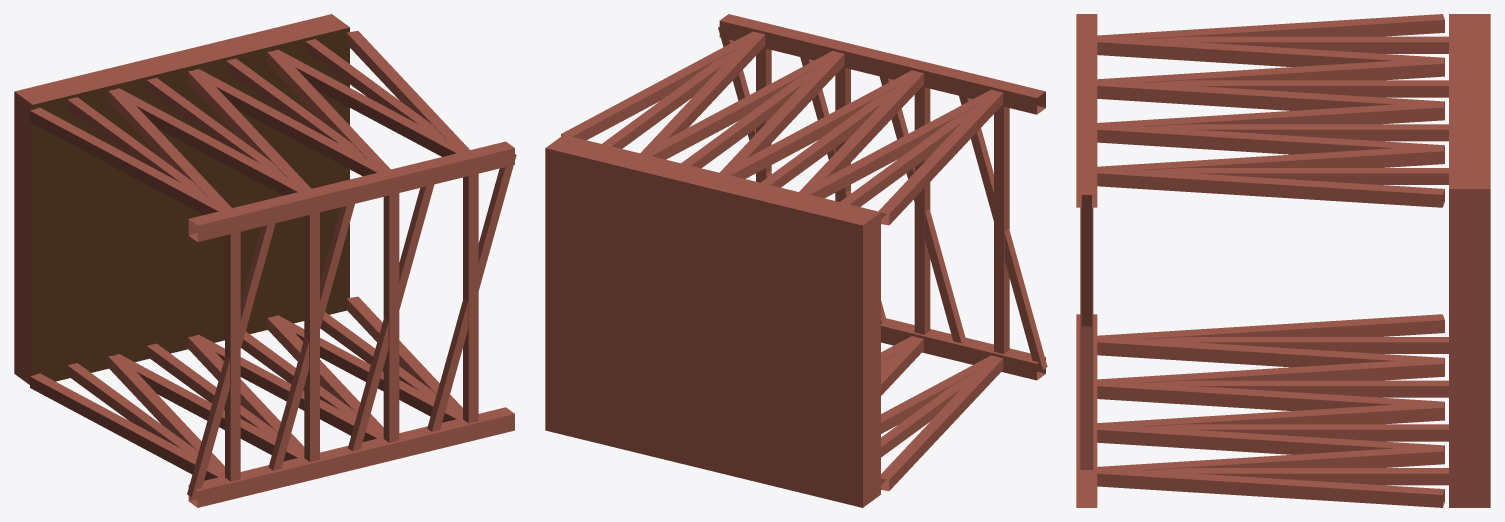
File: middle.glb
3 views of the same model, side by side, from view 1: azimuth 30°, elevation 25°; view 2: azimuth 150°, elevation 25°; view 3: azimuth 270°, elevation 25° (orthographic). The views are drawn at different scales.
Parts seen in each view (by area): view 1: bridge_06_middle; view 2: bridge_06_middle; view 3: bridge_06_middle.
Part boxes in pixels (box(x1,y1,x2,y2)): bridge_06_middle: box(14, 14, 516, 507); bridge_06_middle: box(545, 14, 1047, 507); bridge_06_middle: box(1076, 14, 1490, 507).
Bounding box in the file's own units: 16.54 × 13.6 × 16.
